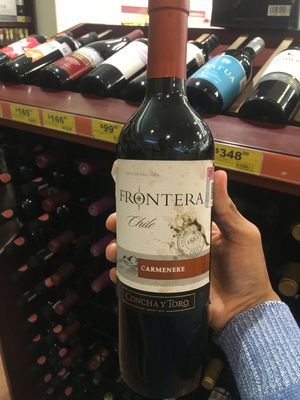frontera carmenere: (106, 8, 222, 400)
